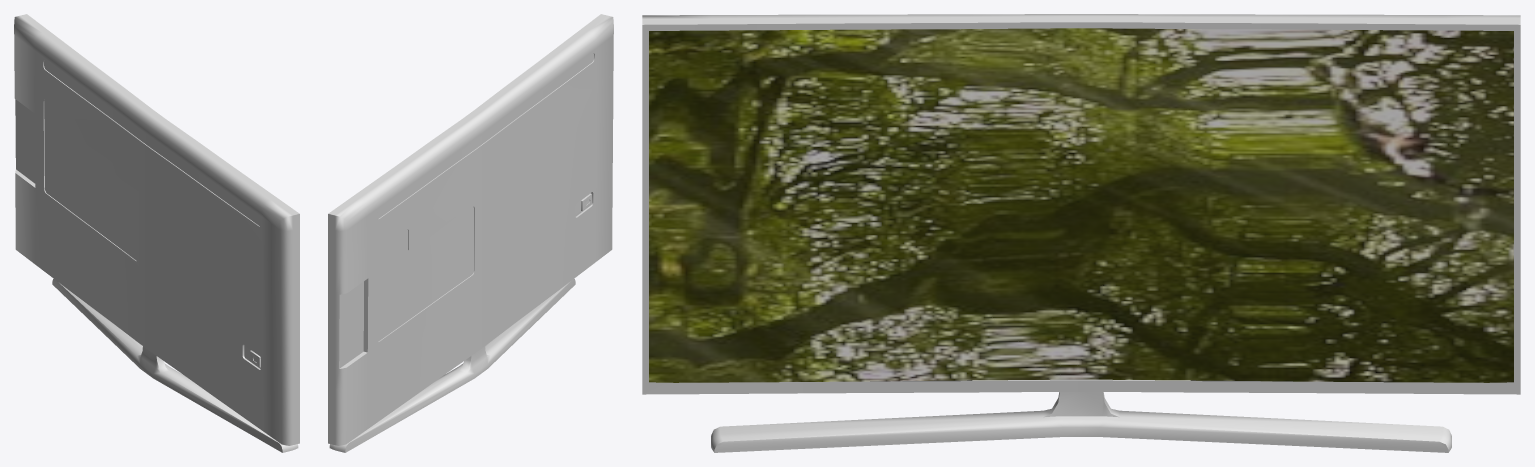
File: peli_televisio.fbx
The picture shows the model from 3 angles, left to right: view 1: azimuth 30°, elevation 25°; view 2: azimuth 150°, elevation 25°; view 3: azimuth 270°, elevation 25°; orthographic projection. The views are drawn at different scales.
Visible parts, largest first — view 1: Cube.002; view 2: Cube.002; view 3: Cube.002.
Part boxes in pixels (x1,y1,x2,y2): Cube.002: (14,14,299,452); Cube.002: (328,14,613,452); Cube.002: (642,14,1520,452).
Bounding box in the file's own units: 201 × 1269 × 2455.
Materials: 3 (1 with a texture image).
